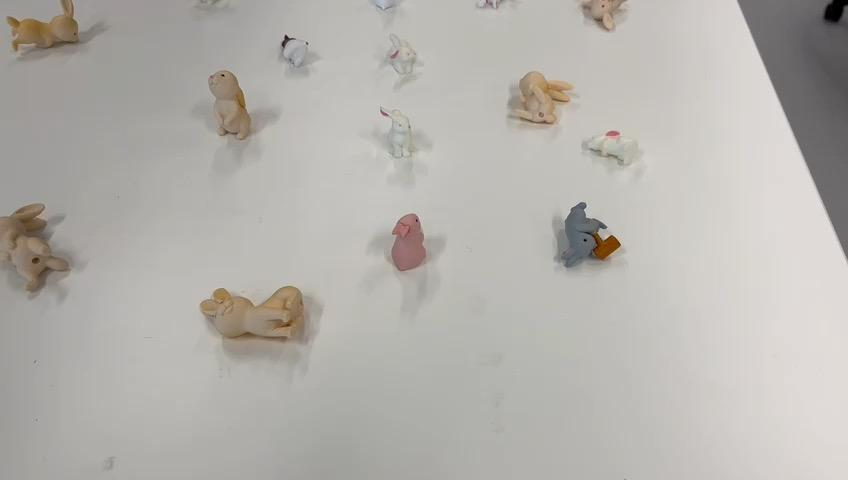pet: (178, 270, 320, 342), (1, 173, 73, 312), (493, 35, 582, 146), (183, 48, 269, 149), (538, 188, 631, 280), (0, 0, 114, 61), (373, 203, 456, 286), (371, 95, 443, 176), (591, 95, 652, 177), (363, 23, 423, 90), (271, 23, 322, 76)
